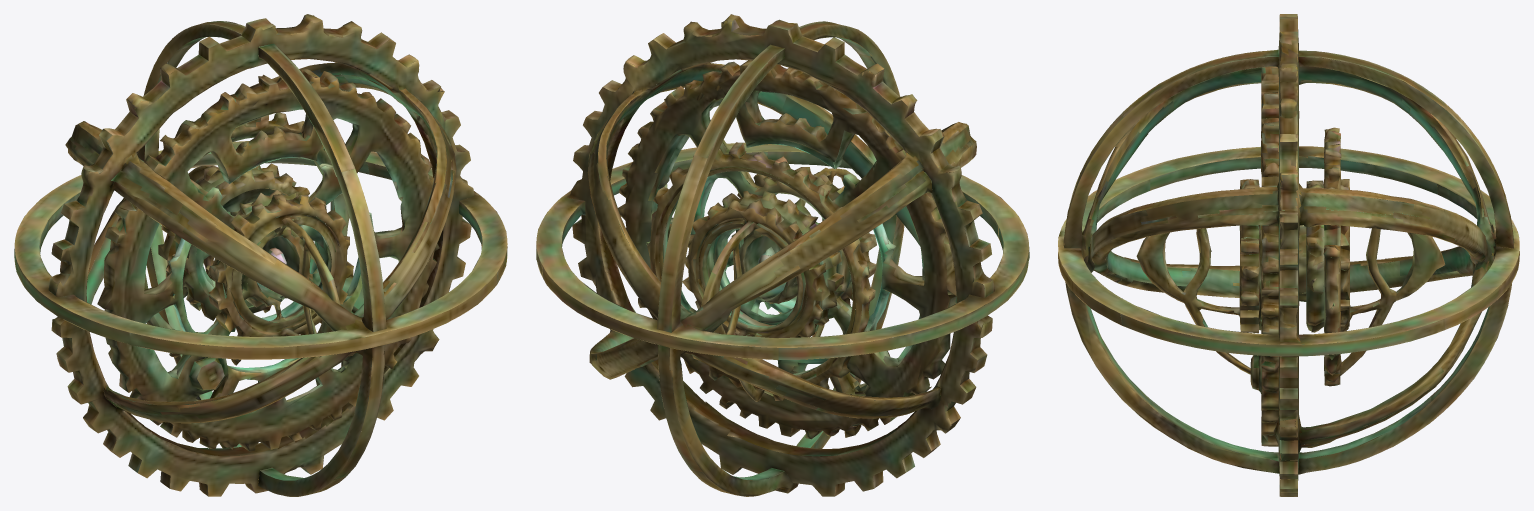
File: gear_ring_01.glb
3 views of the same model, side by side, from view 1: azimuth 30°, elevation 25°; view 2: azimuth 150°, elevation 25°; view 3: azimuth 270°, elevation 25° (orthographic). The views are drawn at different scales.
Visible parts, largest first — view 1: gear_ring_01_mesh_01; view 2: gear_ring_01_mesh_01; view 3: gear_ring_01_mesh_01.
Boxes of the visible parts, x1,y1,x2,y2 form: gear_ring_01_mesh_01: [14, 14, 507, 496]; gear_ring_01_mesh_01: [536, 14, 1029, 496]; gear_ring_01_mesh_01: [1058, 14, 1519, 496].
Bounding box in the file's own units: 1.85 × 1.91 × 1.82.
Materials: 1 (1 with a texture image).
